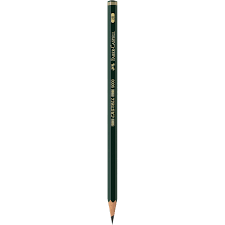Lapiz: (99, 1, 129, 225)
